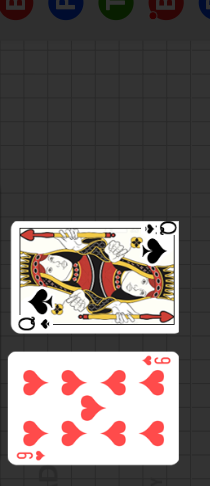9H: (15, 450, 46, 462)
